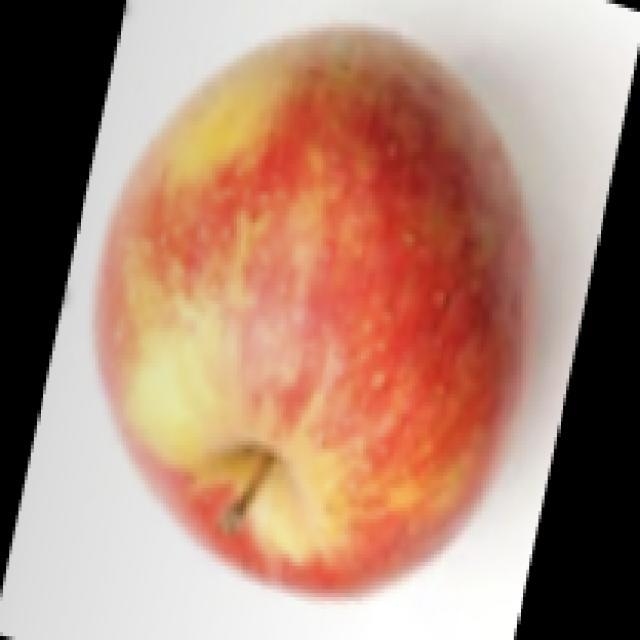Fresh Apple: (95, 34, 515, 588)
